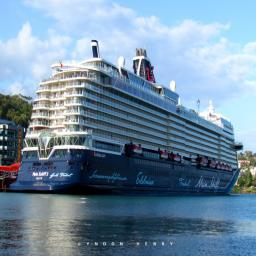cruises: (9, 39, 246, 203)
